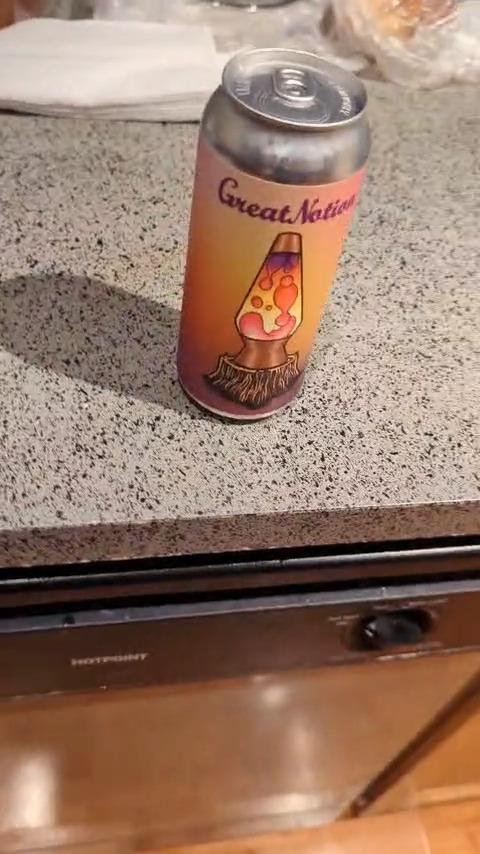metal: (178, 49, 369, 420)
